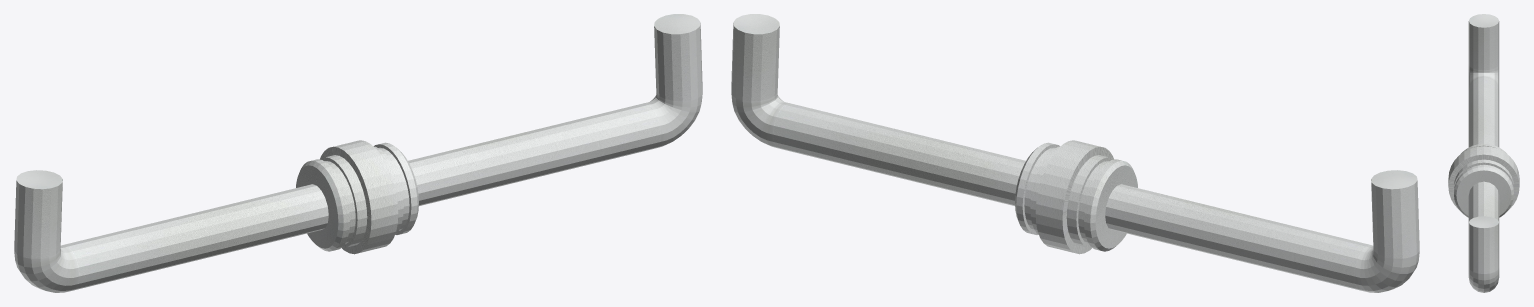
The model's file is tubo-c.fbx.
3 views of the same model, side by side, from view 1: azimuth 30°, elevation 25°; view 2: azimuth 150°, elevation 25°; view 3: azimuth 270°, elevation 25° (orthographic). The views are drawn at different scales.
Visible parts, largest first — view 1: Cilindro; view 2: Cilindro; view 3: Cilindro.
Boxes of the visible parts, bbox=[...] form: Cilindro: bbox=[14, 14, 702, 292]; Cilindro: bbox=[731, 14, 1419, 292]; Cilindro: bbox=[1448, 14, 1519, 292].
Bounding box in the file's own units: 336 × 68.45 × 46.88.
3 materials, 3 textured.
